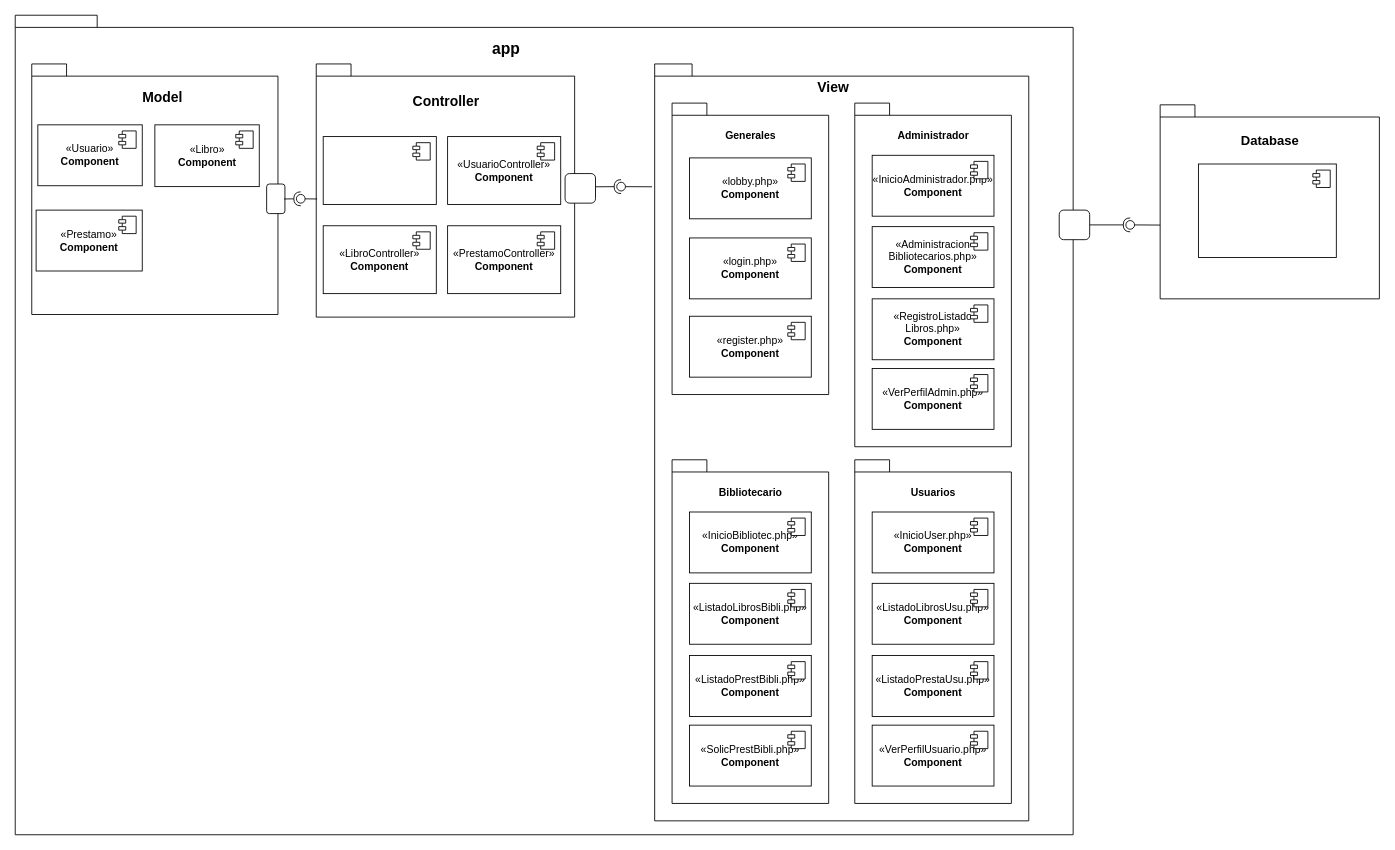
The diagram is 1395 pixels wide and 850 high, and some of its shapes have lost their labels. Here are the shapes that lost their labels. From the top down, the box of each, then its label:
(322, 136, 436, 204): «iniSesion» Component
(1198, 163, 1336, 258): «MySQL» Component
